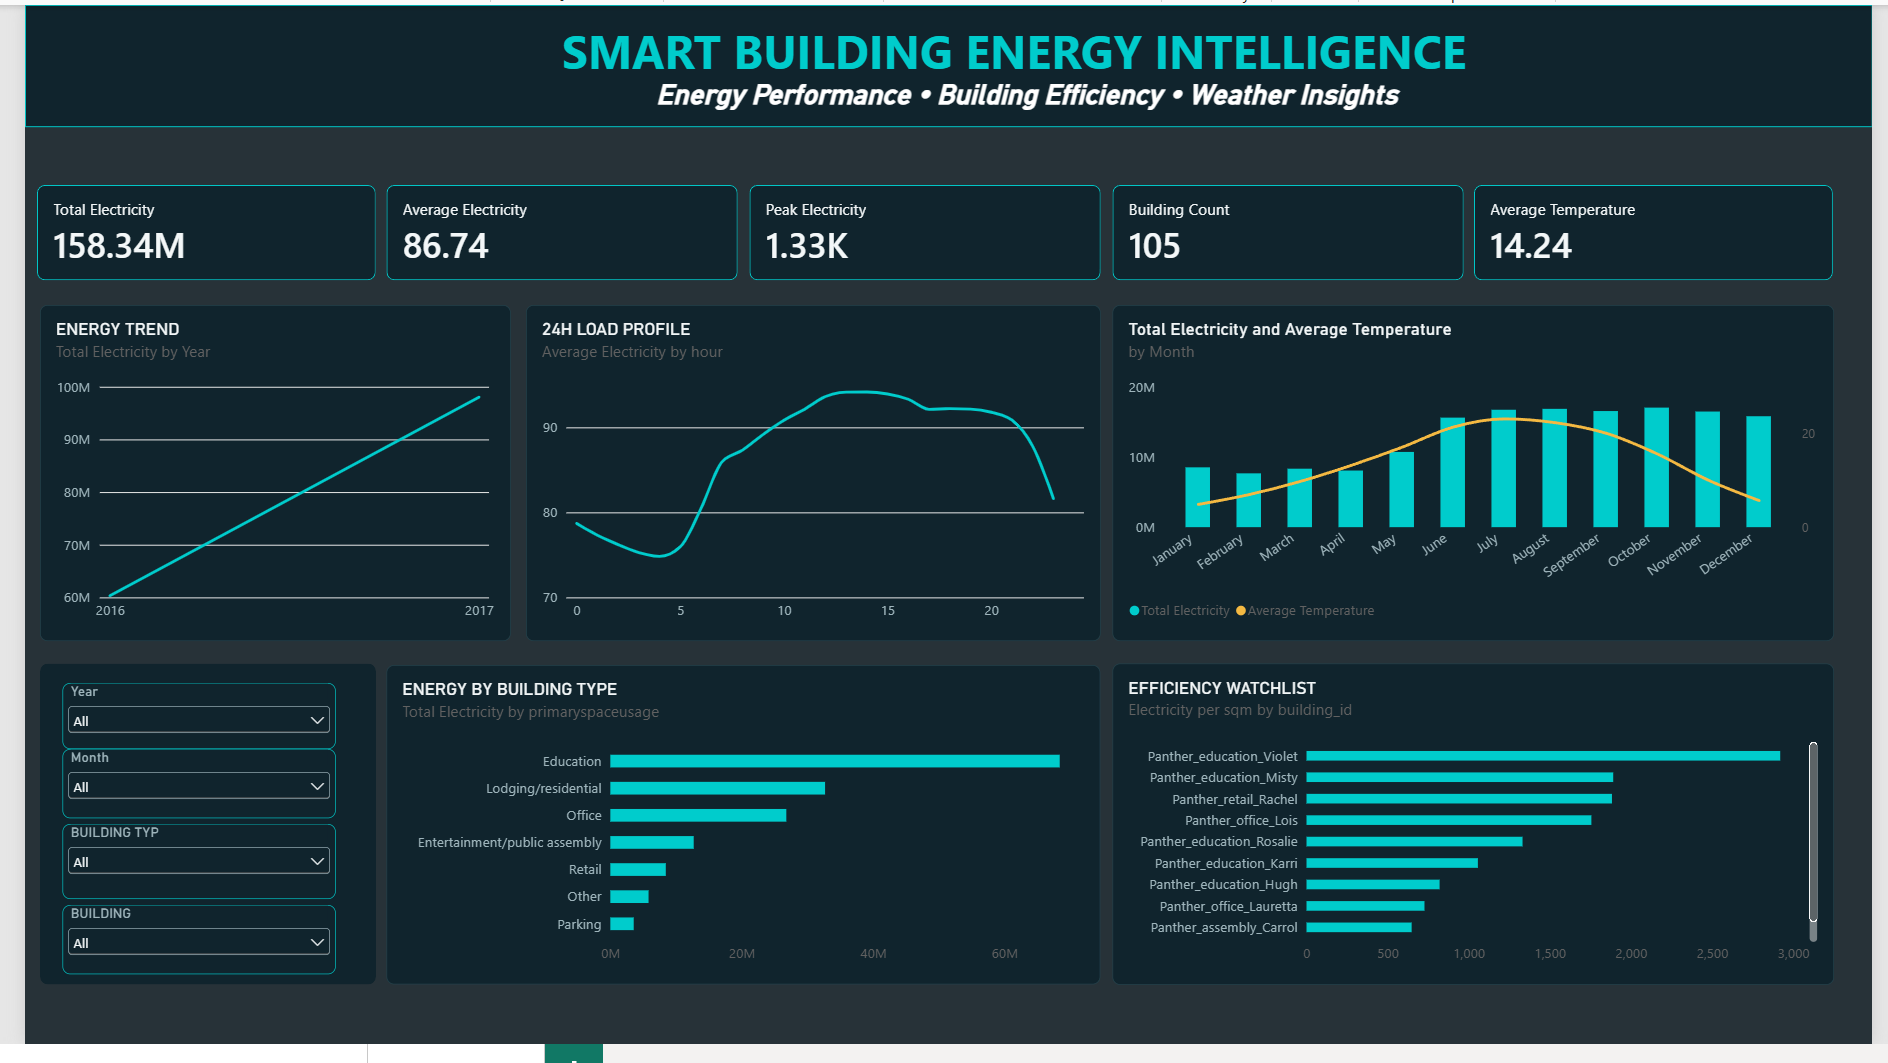

This screenshot's page, from the dashboard's own definition file:
{"tool":"powerbi","page":{"name":"SMART BUILDING ENERGY INTELLIGENCE ","canvas":[1920,1080],"ordinal":0},"visuals":[{"type":"shape","box":[0,0,1920.6,127],"z":0},{"type":"shape","box":[15.6,684.5,349.3,333.7],"z":1000},{"type":"cardVisual","fields":{"Data":["Fact_electricity.Total Electricity"]},"box":[12.2,187.7,352.8,99.1],"z":2000},{"type":"cardVisual","fields":{"Data":["Fact_electricity.Average Electricity"]},"box":[375.4,187.7,365,99.1],"z":3000},{"type":"cardVisual","fields":{"Data":["Fact_electricity.Peak Electricity"]},"box":[752.6,187.7,365,99.1],"z":4000},{"type":"cardVisual","fields":{"Data":["Dim_Building.Building Count"]},"box":[1129.8,187.7,365,99.1],"z":5000},{"type":"cardVisual","fields":{"Data":["Fact_weather.Average Temperature"]},"box":[1506.9,187.7,373.7,99.1],"z":6000},{"type":"lineChart","title":"ENERGY TREND","fields":{"Category":["Dim_Date.Date.Variation.Date Hierarchy.Year","Dim_Date.Date.Variation.Date Hierarchy.Quarter","Dim_Date.Date.Variation.Date Hierarchy.Month","Dim_Date.Date.Variation.Date Hierarchy.Day"],"Y":["Fact_electricity.Total Electricity"]},"box":[15.6,311.8,489.6,349.3],"z":7000},{"type":"slicer","fields":{"Values":["Dim_Date.Year"]},"box":[39,704.8,283.8,68.6],"z":8000},{"type":"slicer","fields":{"Values":["Dim_Date.Month"]},"box":[39,773.4,283.8,71.7],"z":9000},{"type":"slicer","fields":{"Values":["Dim_Building.primaryspaceusage"]},"box":[39,851.3,283.8,78],"z":10000},{"type":"slicer","fields":{"Values":["Dim_Building.building_id"]},"box":[39,935.5,283.8,71.7],"z":11000},{"type":"clusteredBarChart","title":"ENERGY BY BUILDING TYPE","fields":{"Category":["Dim_Building.primaryspaceusage"],"Y":["Fact_electricity.Total Electricity"]},"box":[375.8,686.1,742.2,332.1],"z":12000},{"type":"lineChart","title":"24H LOAD PROFILE","fields":{"Category":["Fact_electricity.hour"],"Y":["Fact_electricity.Average Electricity"]},"box":[520.8,311.8,597.2,349.3],"z":13000},{"type":"lineClusteredColumnComboChart","fields":{"Category":["Dim_Date.Month"],"Y":["Fact_electricity.Total Electricity"],"Y2":["Fact_weather.Average Temperature"]},"box":[1130.4,311.8,750,349.3],"z":14000},{"type":"clusteredBarChart","title":"EFFICIENCY WATCHLIST","fields":{"Category":["Dim_Building.building_id"],"Y":["Fact_electricity.Electricity per sqm"]},"box":[1130.4,684.5,750,333.7],"z":15000},{"type":"textbox","box":[557.9,13.9,1145.4,73],"z":16000},{"type":"textbox","box":[656.4,76.4,822.1,149.3],"z":17000}]}

Visuals, with their boxes in screenshot pixels (x1, y1, x2, y2), scaled from the page's 1920x1080 canvas onto the 1888x1063 screenshot:
shape: Rect(0, 0, 1887, 125)
shape: Rect(15, 674, 359, 1002)
cardVisual - Fact_electricity.Total Electricity: Rect(12, 185, 359, 282)
cardVisual - Fact_electricity.Average Electricity: Rect(369, 185, 728, 282)
cardVisual - Fact_electricity.Peak Electricity: Rect(740, 185, 1099, 282)
cardVisual - Dim_Building.Building Count: Rect(1111, 185, 1470, 282)
cardVisual - Fact_weather.Average Temperature: Rect(1482, 185, 1849, 282)
"ENERGY TREND" lineChart: Rect(15, 307, 497, 651)
slicer - Dim_Date.Year: Rect(38, 694, 317, 761)
slicer - Dim_Date.Month: Rect(38, 761, 317, 832)
slicer - Dim_Building.primaryspaceusage: Rect(38, 838, 317, 915)
slicer - Dim_Building.building_id: Rect(38, 921, 317, 991)
"ENERGY BY BUILDING TYPE" clusteredBarChart: Rect(370, 675, 1099, 1002)
"24H LOAD PROFILE" lineChart: Rect(512, 307, 1099, 651)
lineClusteredColumnComboChart - Dim_Date.Month x Fact_electricity.Total Electricity: Rect(1112, 307, 1849, 651)
"EFFICIENCY WATCHLIST" clusteredBarChart: Rect(1112, 674, 1849, 1002)
textbox: Rect(549, 14, 1675, 86)
textbox: Rect(645, 75, 1454, 222)
